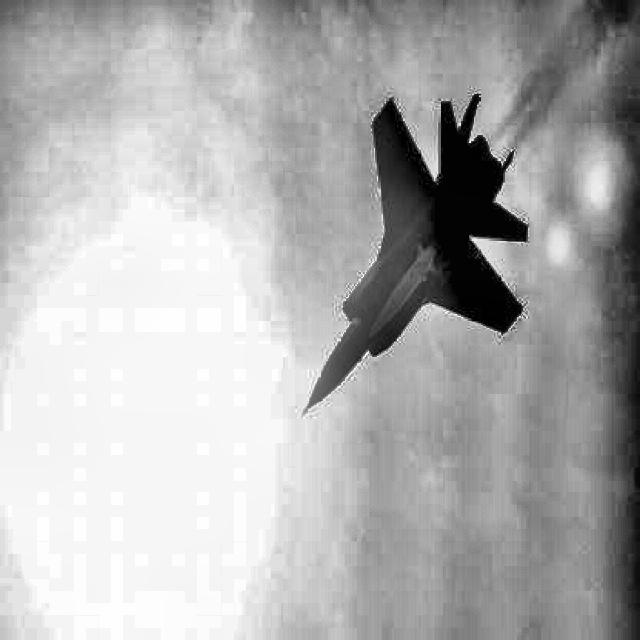Mig31: (301, 93, 528, 418)
